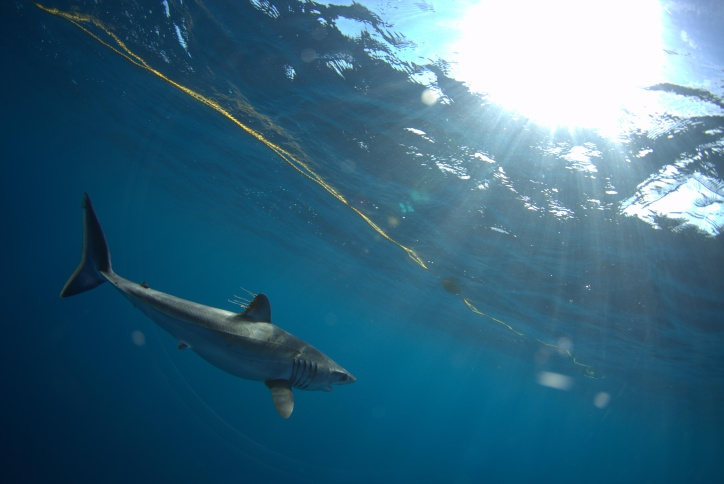Mako: (39, 184, 361, 425)
